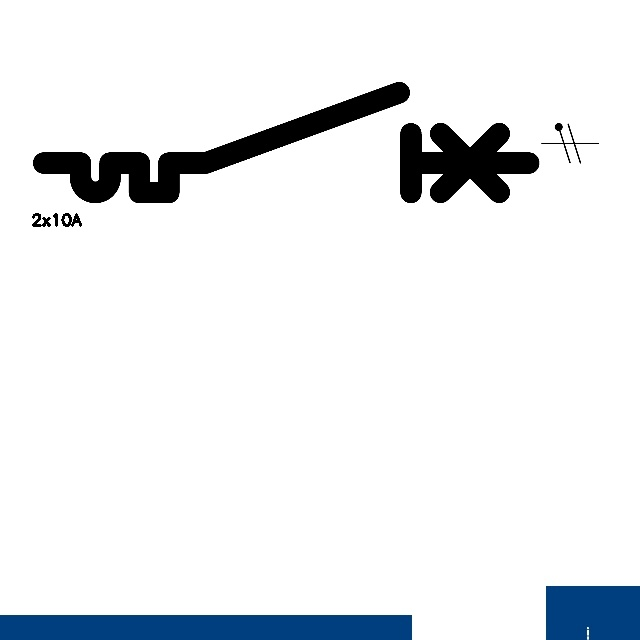interruptor_termomagnetico: (31, 80, 541, 205)
